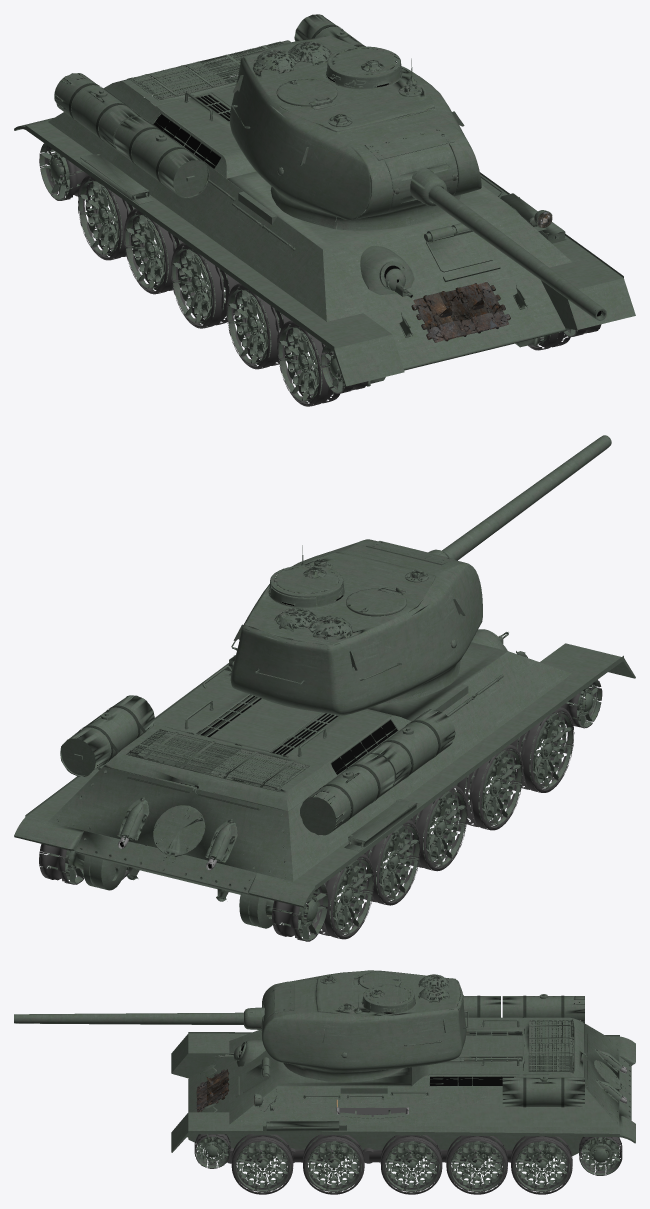
The picture shows the model from 3 angles, top to bottom: view 1: azimuth 30°, elevation 25°; view 2: azimuth 150°, elevation 25°; view 3: azimuth 270°, elevation 25°; orthographic projection. The views are drawn at different scales.
Parts seen in each view (by area): view 1: hull, turret, cannon, radL3, radL4, radL2, radL5, radL1, radL0, radL6; view 2: hull, turret, radL4, radL5, cannon, radL3, radL2, radL1, radL0, radR0, radL6; view 3: hull, turret, cannon, radR5, radR4, radR3, radR2, radR1, radR0, radR6, armR3.
Part boxes in pixels (x1,y1,x2,y2): hull: (14,14,635,386); turret: (230,35,481,230); cannon: (370,144,606,320); radL3: (171,243,237,328); radL4: (226,283,292,369); radL2: (124,208,186,294); radL5: (277,320,339,406); radL1: (78,175,139,260); radL0: (39,143,93,200); radL6: (321,345,368,393); hull: (14,629,635,928); turret: (230,539,482,715); radL4: (457,744,523,830); radL5: (508,707,574,792); cannon: (409,435,611,615); radL3: (406,785,467,871); radL2: (357,820,420,905); radL1: (316,854,374,939); radL0: (265,884,328,941); radR0: (39,844,84,884); radL6: (561,679,602,728); hull: (171,994,635,1157); turret: (261,970,468,1082); cannon: (14,991,274,1030); radR5: (231,1134,293,1194); radR4: (303,1134,364,1194); radR3: (380,1135,442,1194); radR2: (446,1135,507,1194); radR1: (511,1136,572,1194); radR0: (579,1136,622,1175); radR6: (194,1134,230,1168); armR3: (363,1148,411,1163).
Bounding box in the file's own units: 3.02 × 2.51 × 8.04.
Materials: 11 (6 with a texture image).
